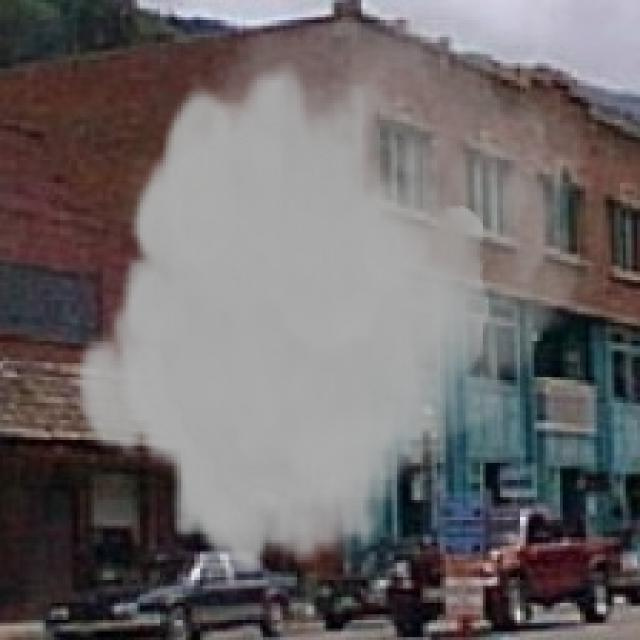smoke: (71, 23, 603, 577)
